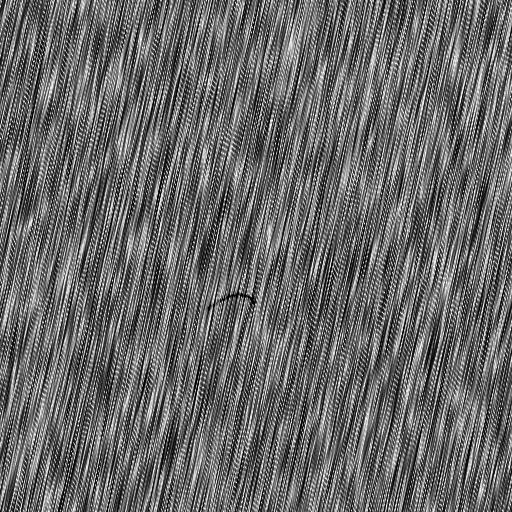DefectTypeC: (210, 289, 256, 316)
